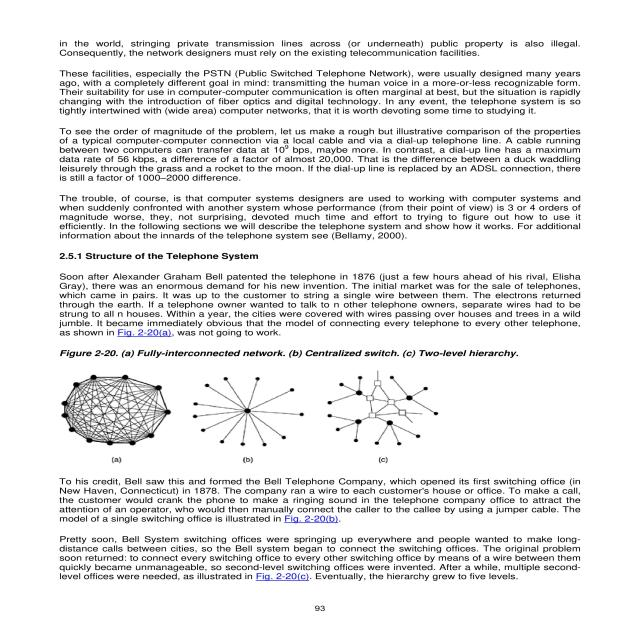diagram: (42, 347, 538, 472)
